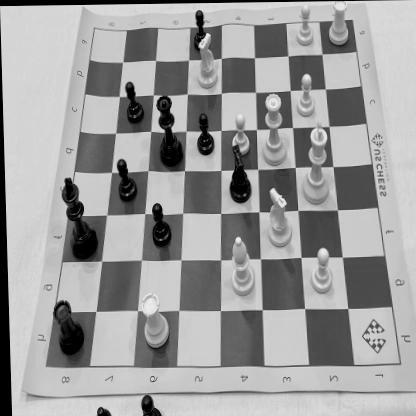black-king: (60, 172, 100, 261)
black-knight: (223, 144, 252, 204)
black-pawn: (148, 200, 172, 248), (115, 157, 138, 204), (190, 6, 212, 52), (194, 112, 216, 158), (124, 80, 145, 126)
black-queen: (154, 90, 184, 170)
black-rook: (47, 294, 86, 358)
white-bishop: (228, 233, 256, 297)
white-king: (298, 120, 332, 207)
white-knight: (262, 186, 292, 250), (194, 30, 219, 90)
white-pawn: (306, 243, 334, 295), (294, 71, 316, 119), (229, 110, 252, 155), (294, 2, 316, 48)
white-queen: (259, 90, 287, 168)
white-rook: (138, 286, 172, 349), (324, 1, 352, 51)
